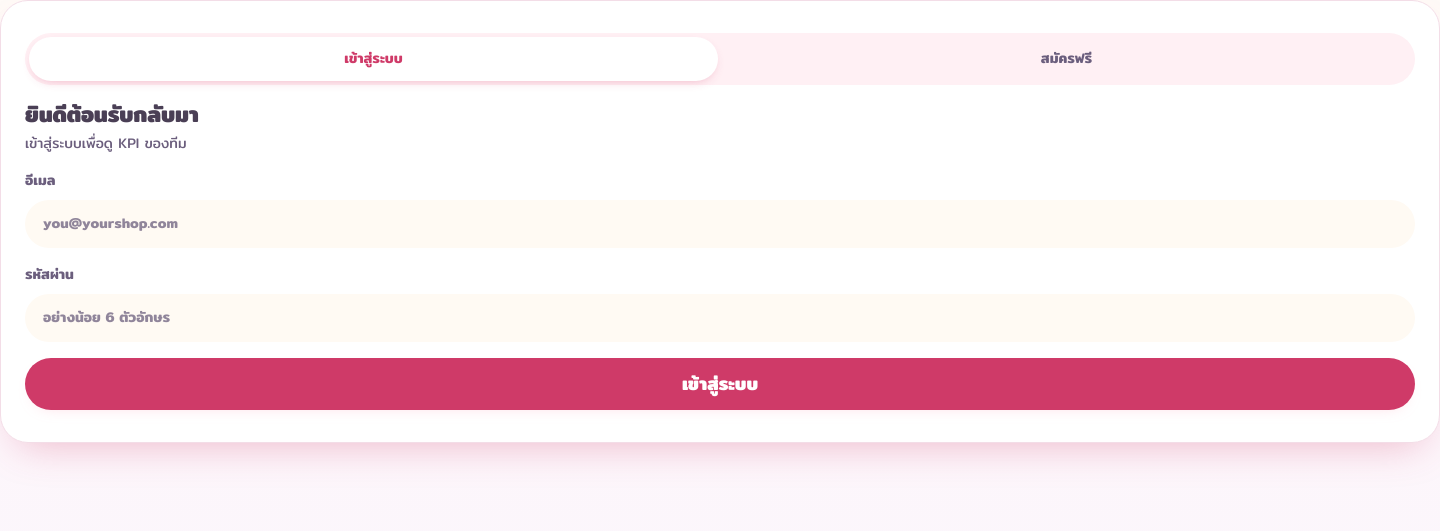
AuthForm › shows an error message when sign-in fails
Type "owner@example.com" into the field labelled "อีเมล" at (720, 224), box [25,200,1415,248]
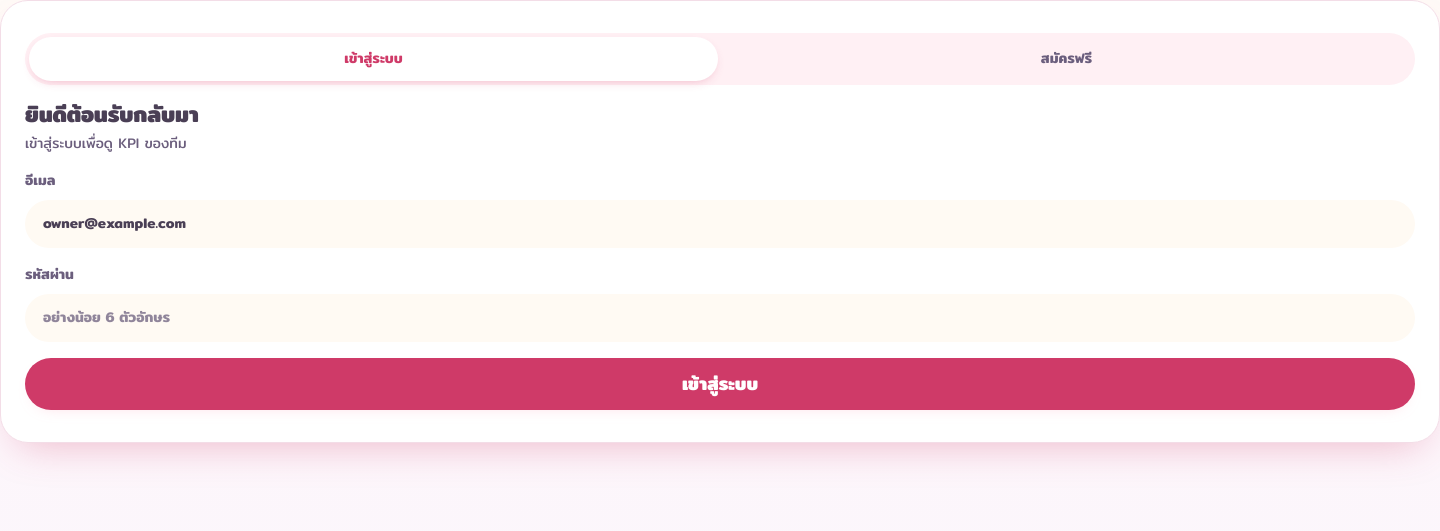
Type "wrong" into the password field labelled "รหัสผ่าน" at (720, 318), box [25,294,1415,342]
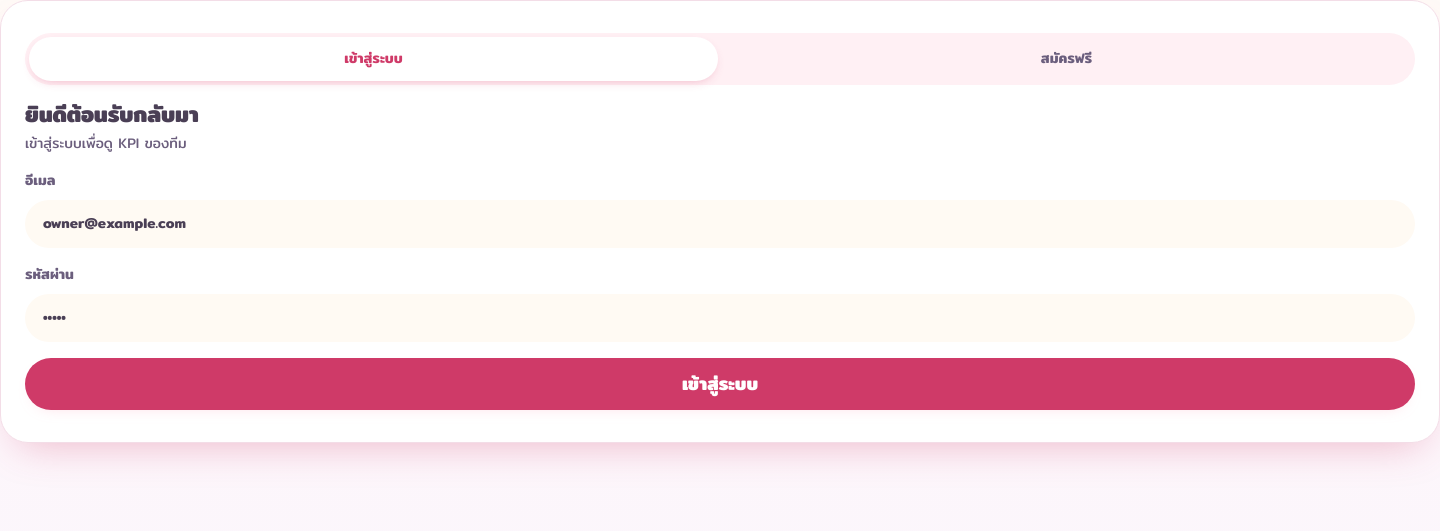
Click the button "เข้าสู่ระบบ" at (720, 384), box [25,358,1415,410]
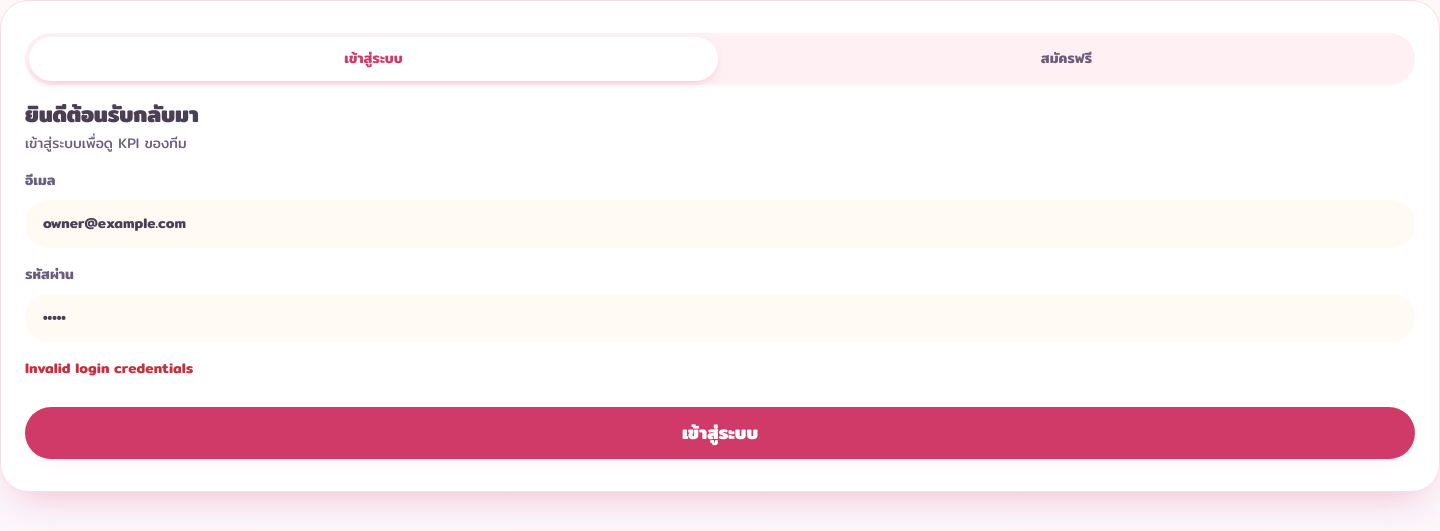
Now the message reads "Invalid login credentials", box [25,357,193,379]
